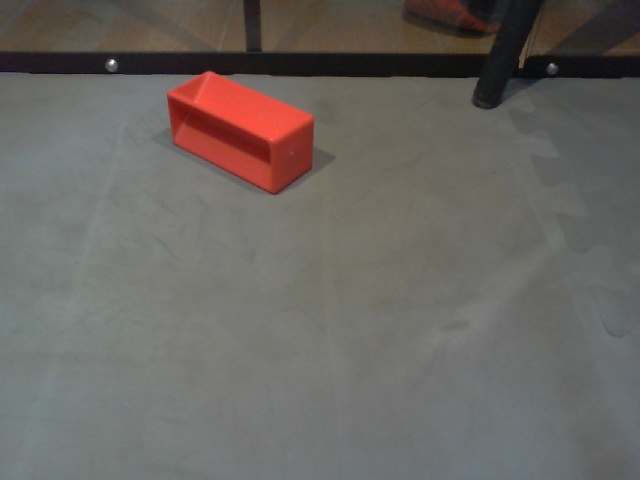RedSample: (164, 68, 317, 197)
